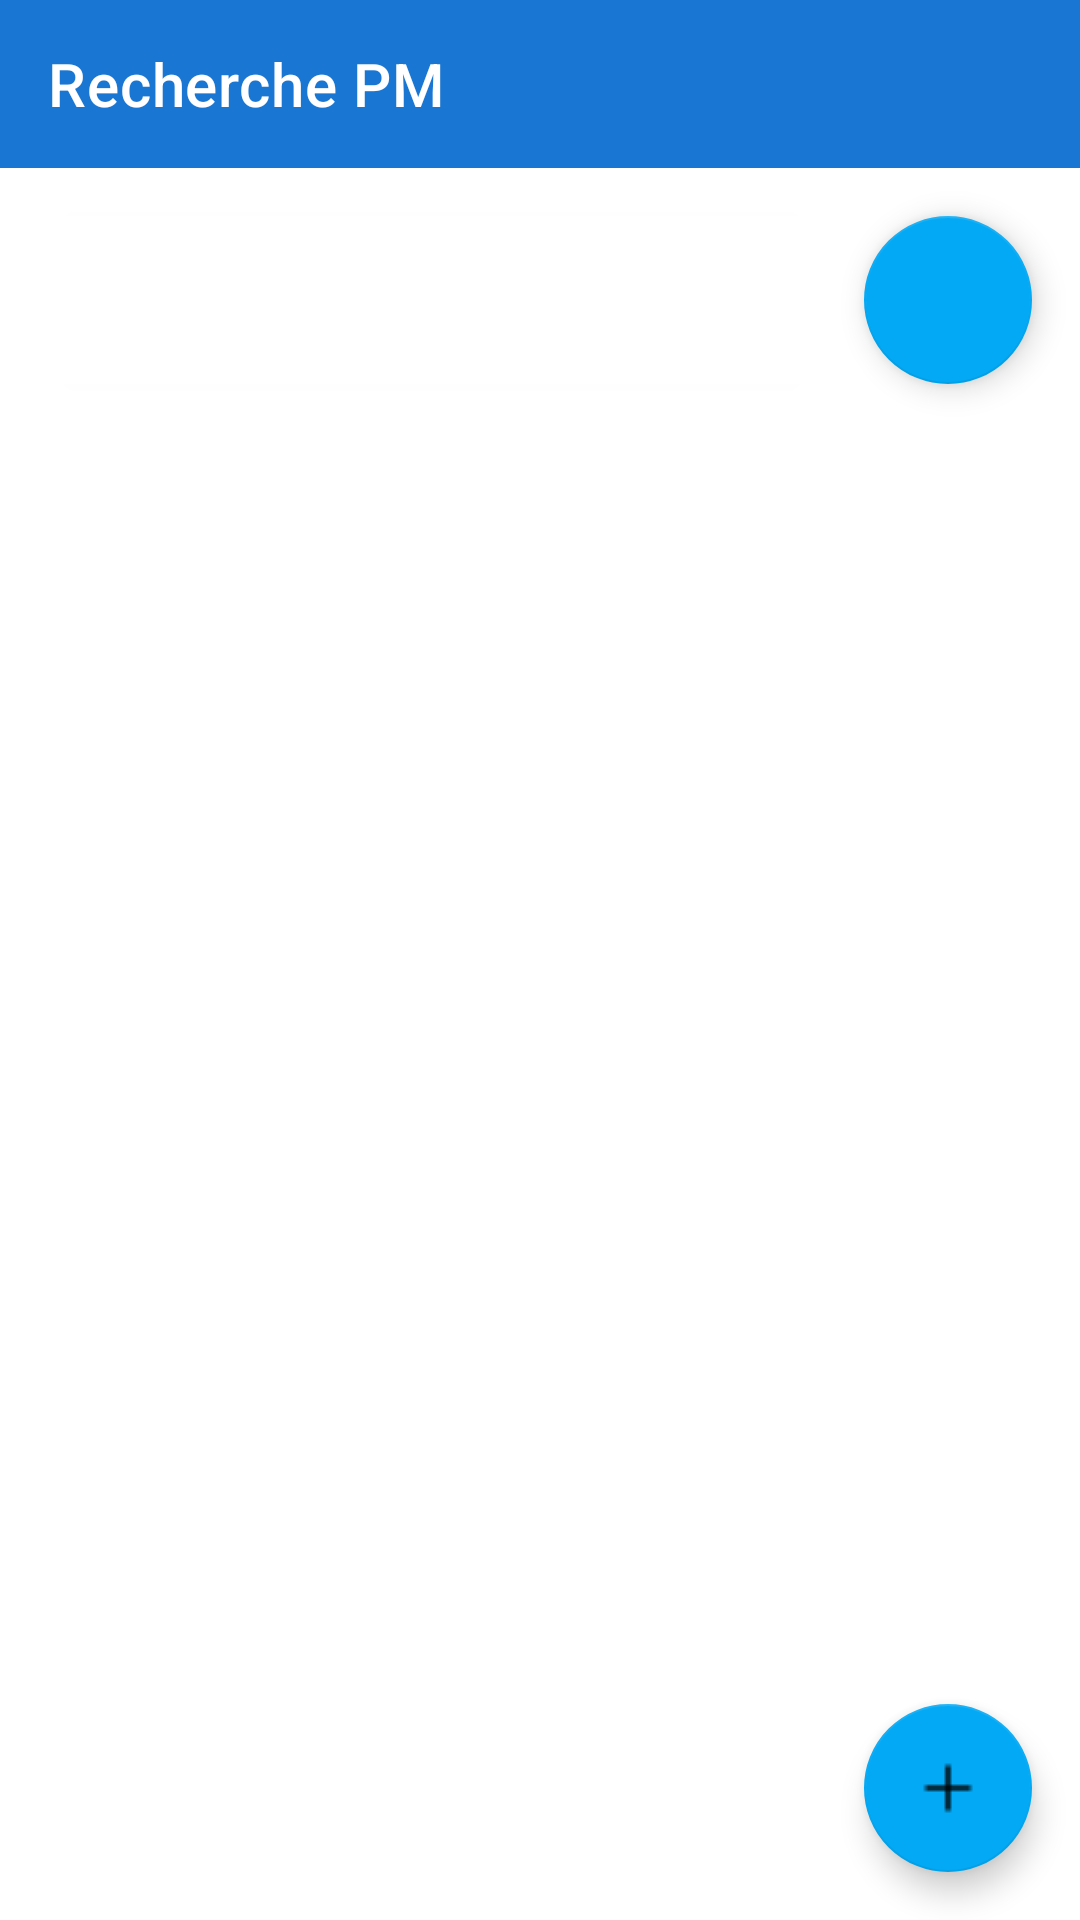

Icons on this 1080*1920 Android screen, each with its box as rect(x1, y1, x2, y2):
Ajouter un PM: rect(864, 1704, 1032, 1872)
